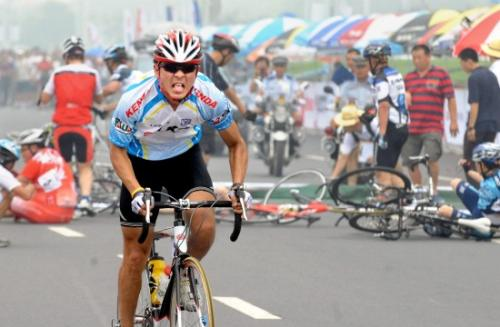10+: (1, 22, 497, 327)
down: (11, 132, 80, 228), (444, 141, 500, 229)
